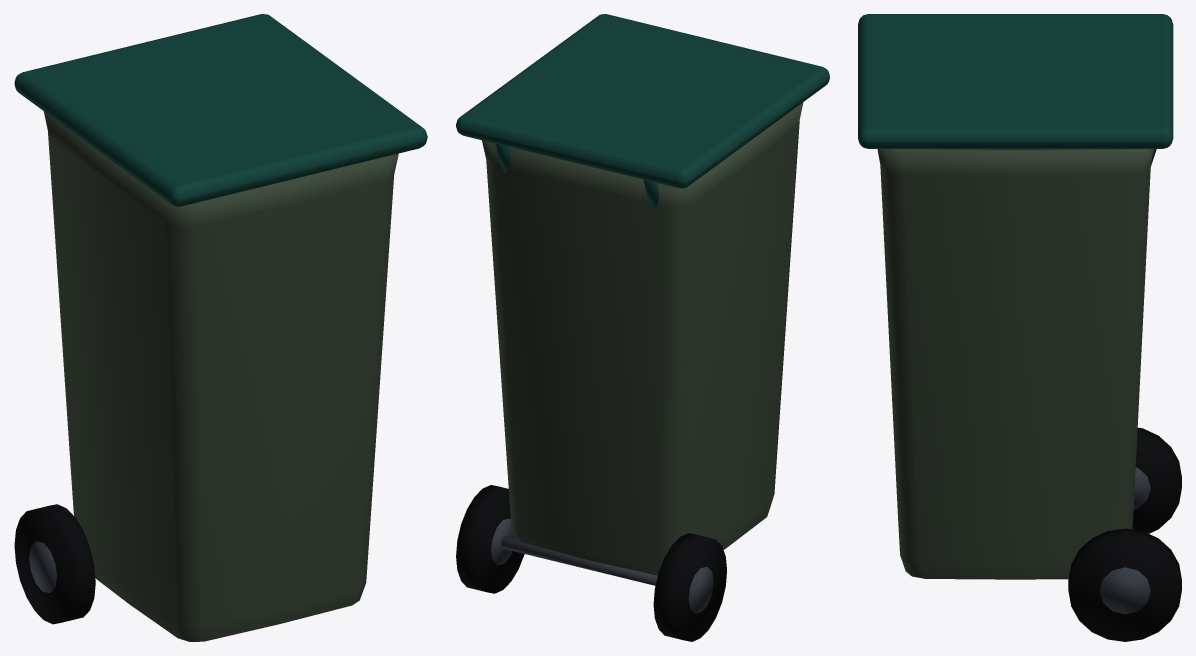
File: bin-burning.glb
The picture shows the model from 3 angles, left to right: view 1: azimuth 30°, elevation 25°; view 2: azimuth 150°, elevation 25°; view 3: azimuth 270°, elevation 25°; orthographic projection. The views are drawn at different scales.
Parts seen in each view (by area): view 1: bin-burning; view 2: bin-burning; view 3: bin-burning.
Boxes of the visible parts, left/top/right/bottom form: bin-burning: left=14, top=14, right=427, bottom=641; bin-burning: left=456, top=14, right=829, bottom=641; bin-burning: left=858, top=14, right=1181, bottom=641.
Bounding box in the file's own units: 0.505 × 0.999 × 0.5705.
1 material, 1 textured.
